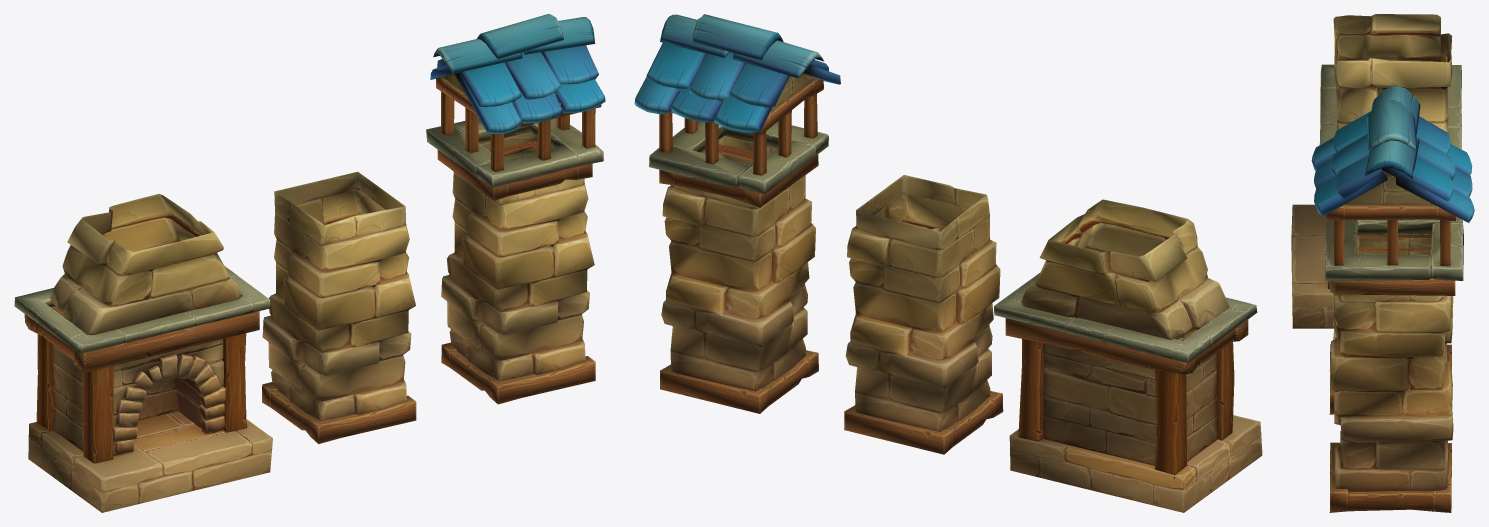
3 renders of one model, left to right at view 1: azimuth 30°, elevation 25°; view 2: azimuth 150°, elevation 25°; view 3: azimuth 270°, elevation 25°, orthographic. The views are drawn at different scales.
Visible parts, largest first — view 1: SM_Fireplace_fireplace, SM_Fireplace_chimney.001, SM_Fireplace_middle; view 2: SM_Fireplace_fireplace, SM_Fireplace_chimney.001, SM_Fireplace_middle; view 3: SM_Fireplace_chimney.001, SM_Fireplace_fireplace, SM_Fireplace_middle.
Boxes of the visible parts, bbox=[...] form: SM_Fireplace_fireplace: bbox=[14, 194, 272, 512]; SM_Fireplace_chimney.001: bbox=[426, 14, 605, 404]; SM_Fireplace_middle: bbox=[262, 171, 416, 443]; SM_Fireplace_fireplace: bbox=[994, 199, 1262, 512]; SM_Fireplace_chimney.001: bbox=[634, 14, 840, 413]; SM_Fireplace_middle: bbox=[844, 175, 1003, 454]; SM_Fireplace_chimney.001: bbox=[1311, 86, 1474, 512]; SM_Fireplace_fireplace: bbox=[1291, 14, 1461, 328]; SM_Fireplace_middle: bbox=[1329, 280, 1452, 414].
Size of the model in its own units: 5.31 by 3.25 by 1.45.
1 material, 1 textured.
